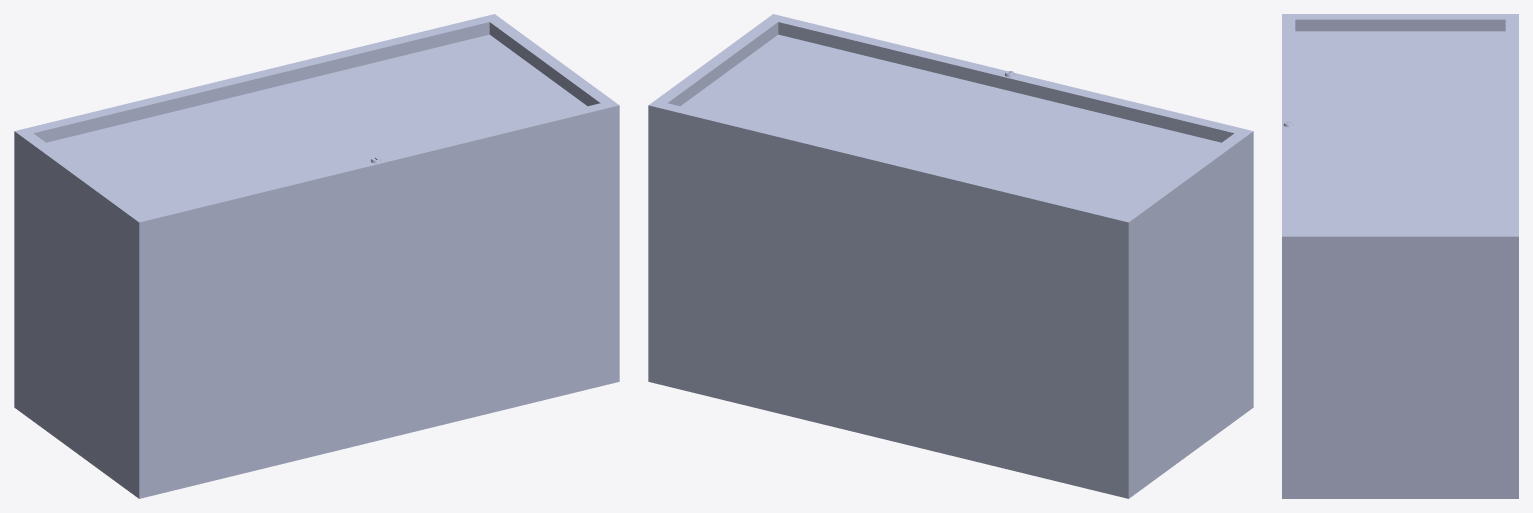
Rendered from Overhead cabinet - 40in._y.fbx.
3 renders of one model, left to right at view 1: azimuth 30°, elevation 25°; view 2: azimuth 150°, elevation 25°; view 3: azimuth 270°, elevation 25°, orthographic. The views are drawn at different scales.
Visible parts, largest first — view 1: Body_1; view 2: Body_1; view 3: Body_1.
Boxes of the visible parts, <box> form: Body_1: <box>14,14,619,498</box>; Body_1: <box>648,14,1253,498</box>; Body_1: <box>1282,14,1518,498</box>.
Size of the model in its own units: 1.02 by 0.4572 by 0.5639.
